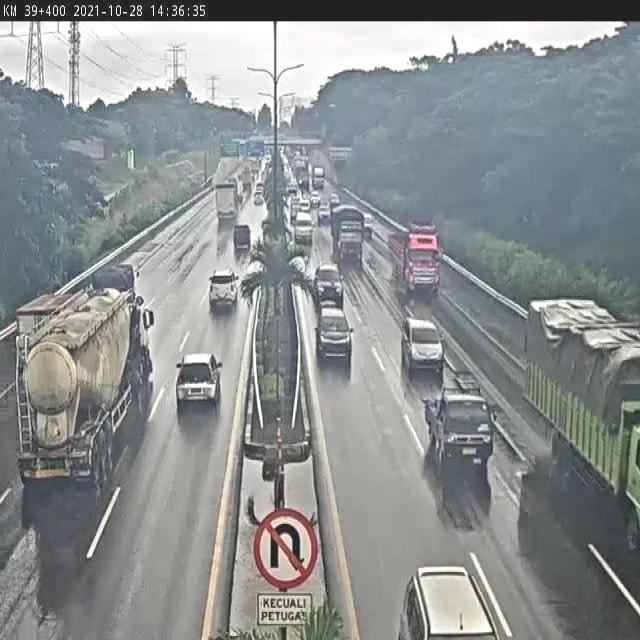Car: (394, 563, 507, 638), (175, 352, 222, 412), (401, 316, 444, 378), (315, 303, 354, 367), (313, 263, 344, 308), (208, 268, 240, 311), (294, 211, 314, 246), (234, 224, 252, 253), (318, 203, 331, 224), (363, 213, 373, 237), (286, 181, 298, 199), (330, 193, 340, 211), (310, 190, 320, 208)
Truck: (519, 302, 640, 585), (14, 267, 155, 508), (424, 384, 494, 479), (387, 220, 442, 303), (331, 204, 368, 269), (214, 178, 242, 221), (312, 165, 325, 189)
